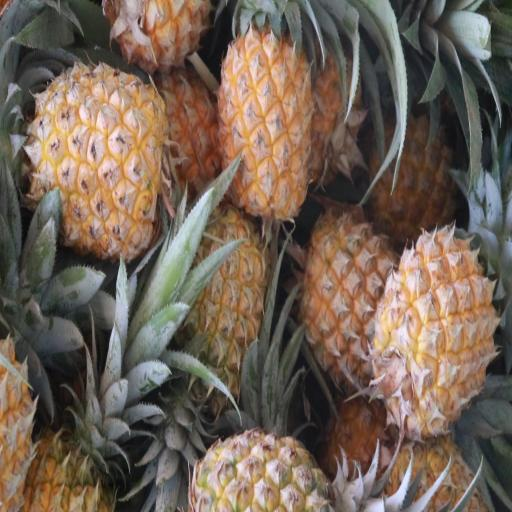------------------------------: (304, 216, 401, 382)
Pineapple - v8 v1: (34, 62, 162, 254), (378, 229, 493, 429), (220, 30, 313, 222), (184, 218, 266, 394), (371, 111, 458, 242)
